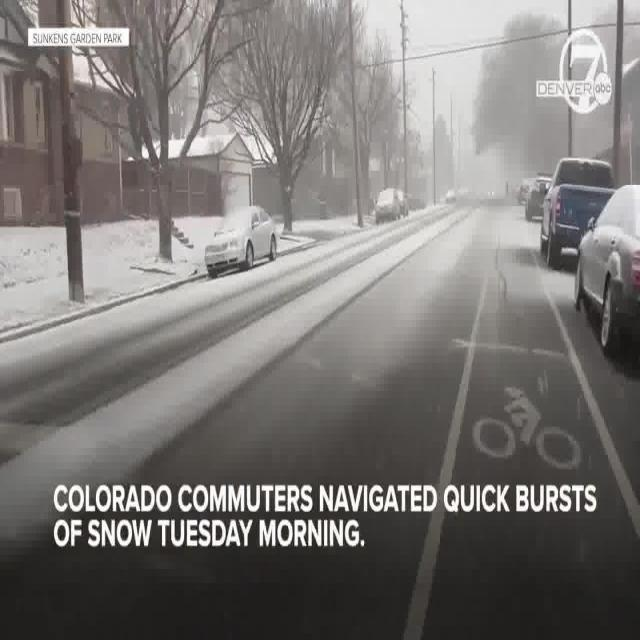Car: (568, 184, 640, 356), (534, 157, 624, 272), (202, 189, 284, 282), (524, 173, 554, 222), (373, 190, 398, 225)
